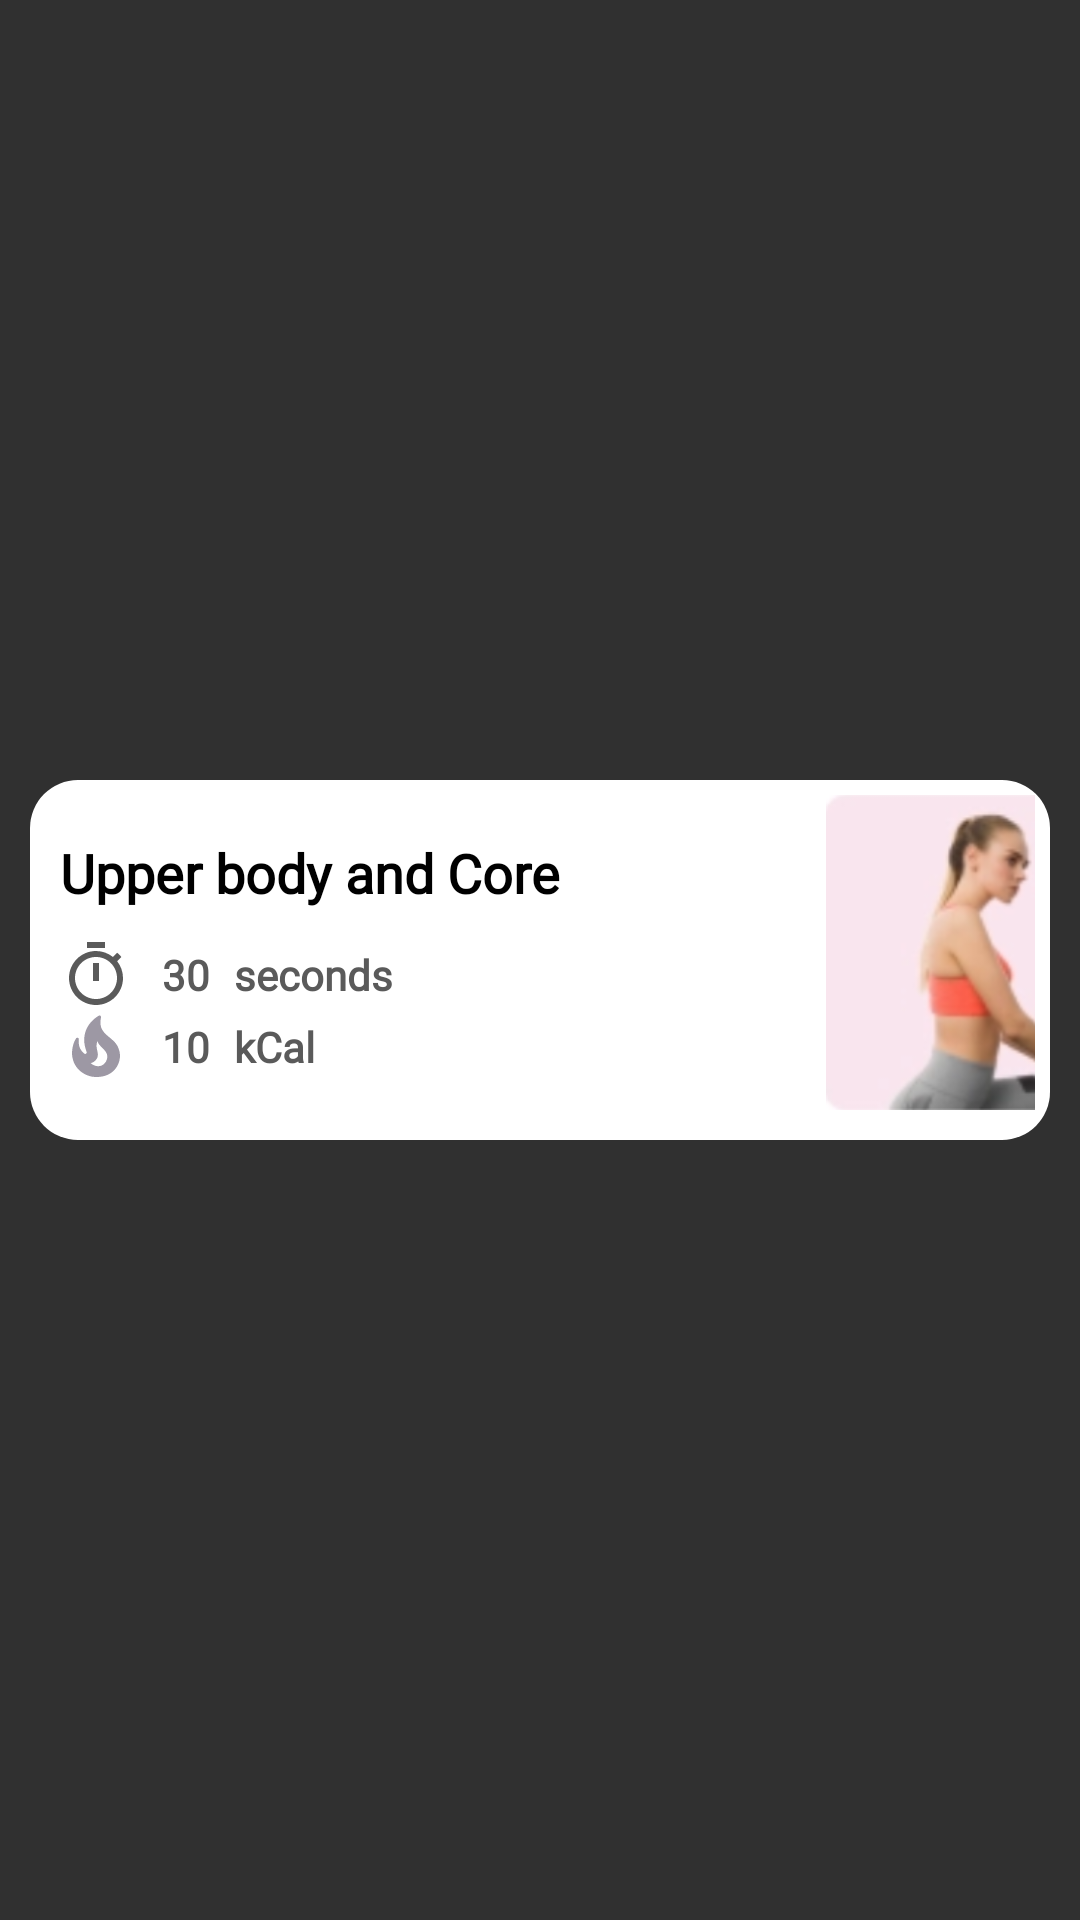

Screen size 1080 x 1920. Icon name, then its center in pixels as (x,y):
local fire: (96,1046)
timer: (96,973)
